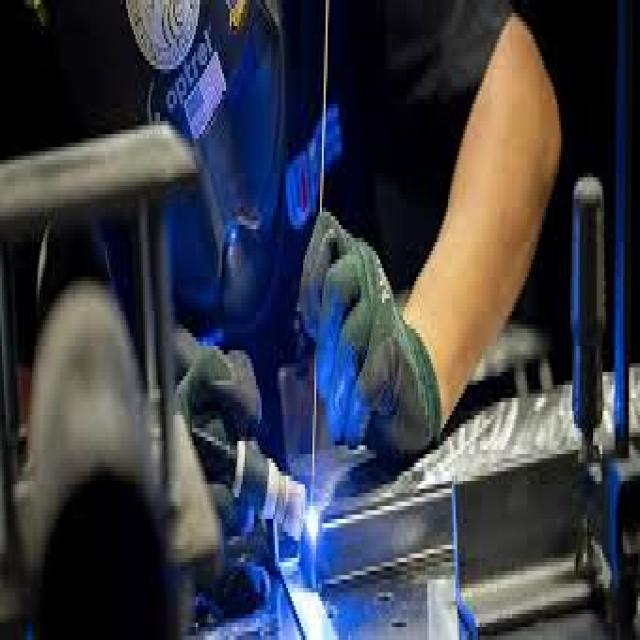welding: (306, 502, 320, 540)
